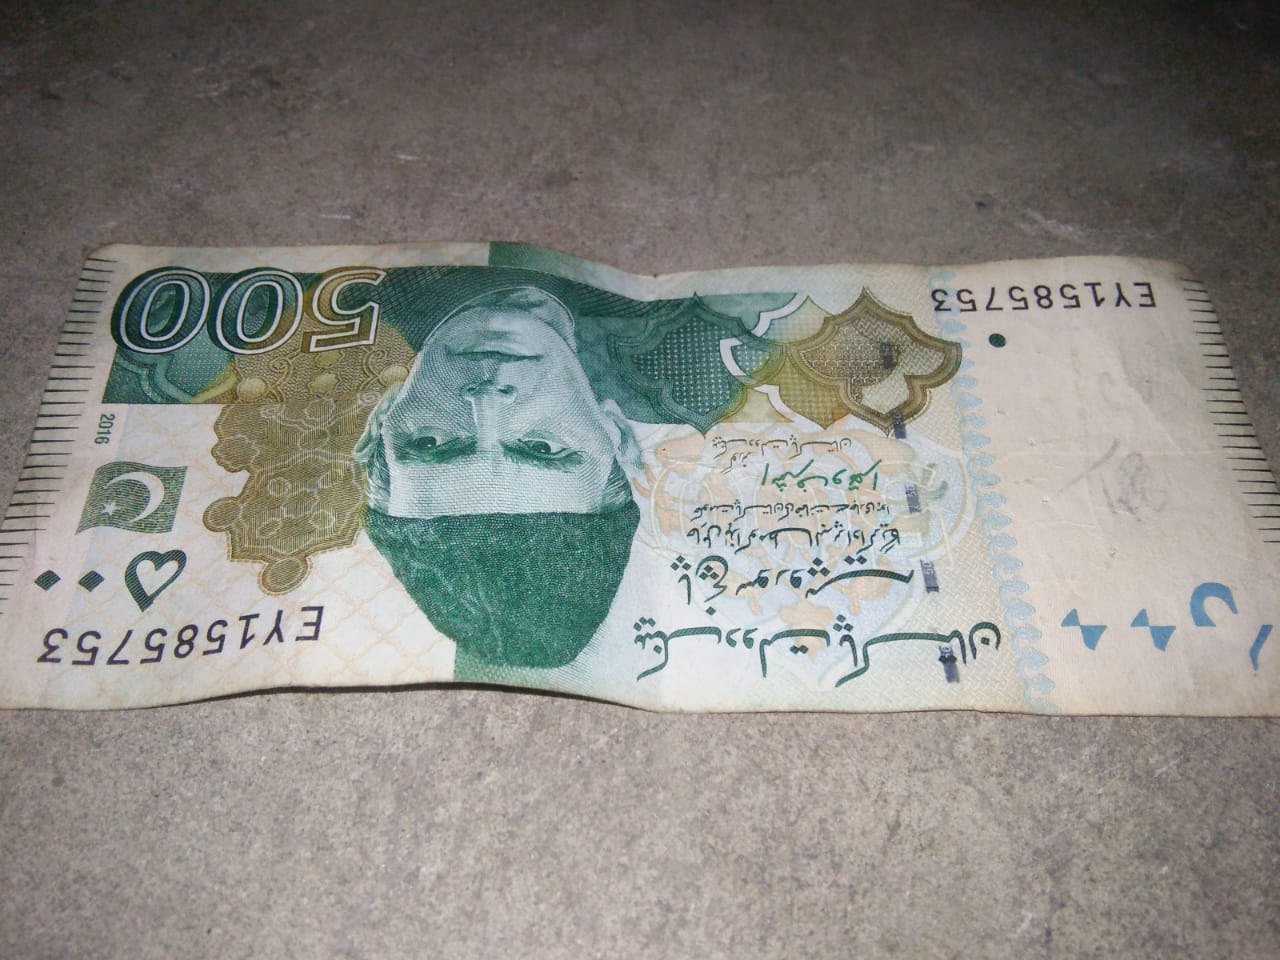500 rupee: (23, 194, 1280, 743)
